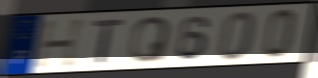0: (216, 10, 258, 62), (263, 7, 301, 60)
6: (176, 15, 211, 61)
H: (33, 17, 89, 70)
Q: (127, 15, 173, 65)
T: (91, 17, 127, 65)
